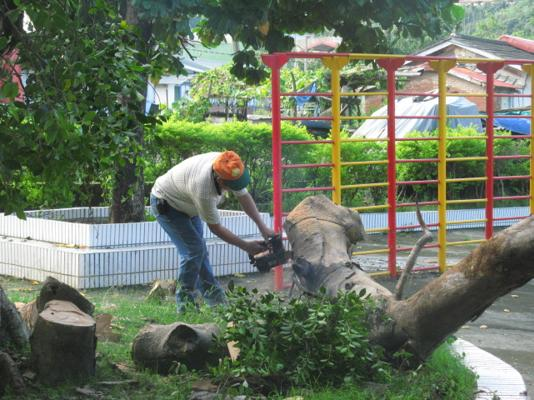person: (151, 149, 280, 319)
